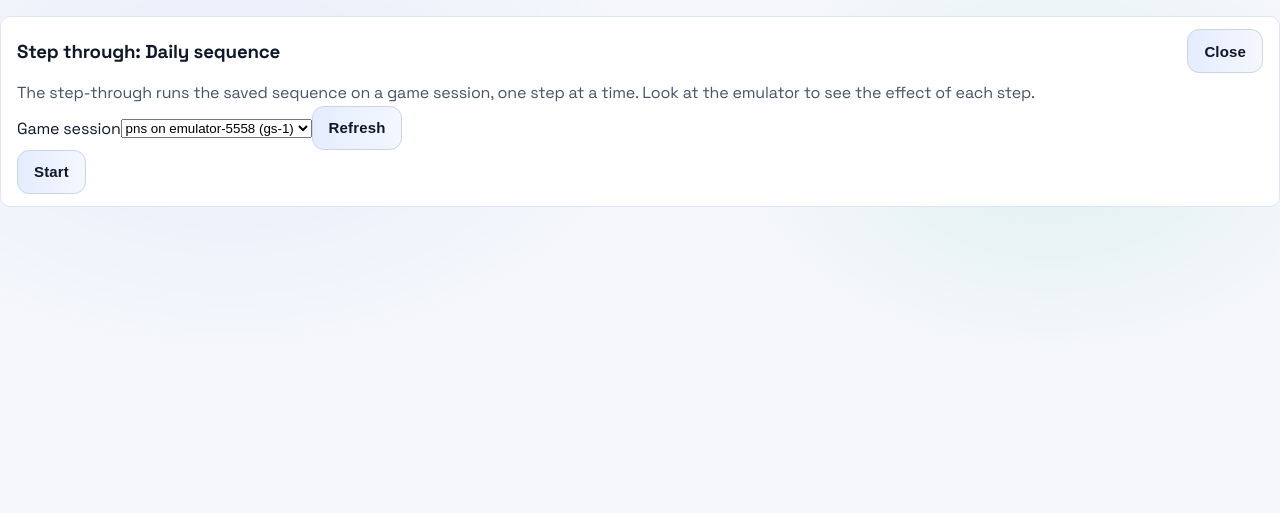
Test: StepThroughPanel history, restart, values, and queue › says that a queue that was paused before stays paused
The width and height of the screenshot is (1280, 513).
Click the button "Start" at (51, 172), box x1=17 y1=150 x2=86 y2=194
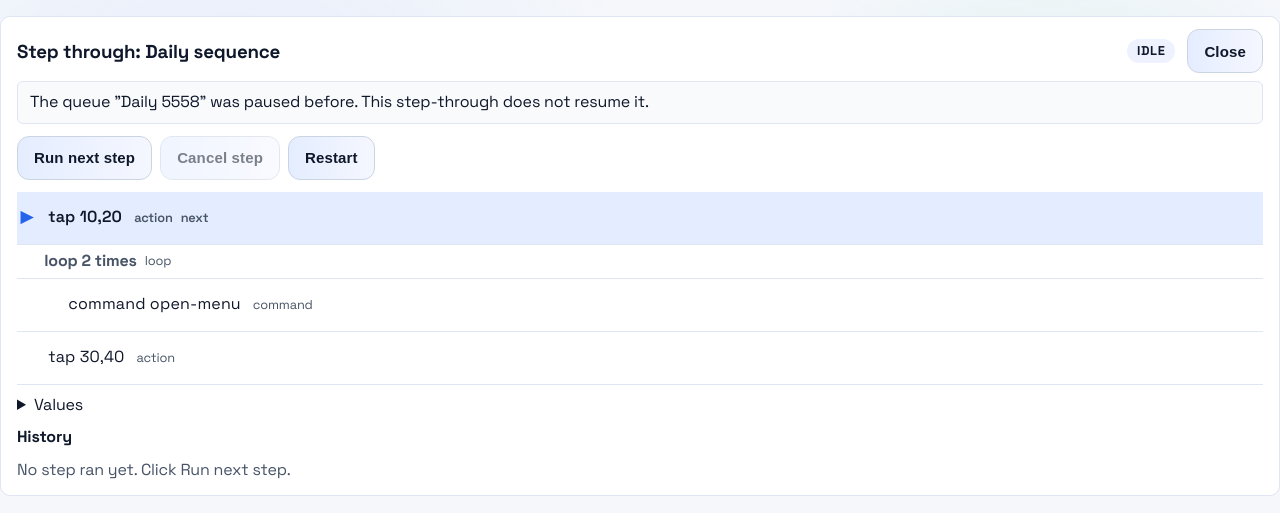
Check: the list named "Steps" is shown, box x1=17 y1=192 x2=1263 y2=385
Check: the text "was paused before" is shown, box x1=200 y1=91 x2=649 y2=112
